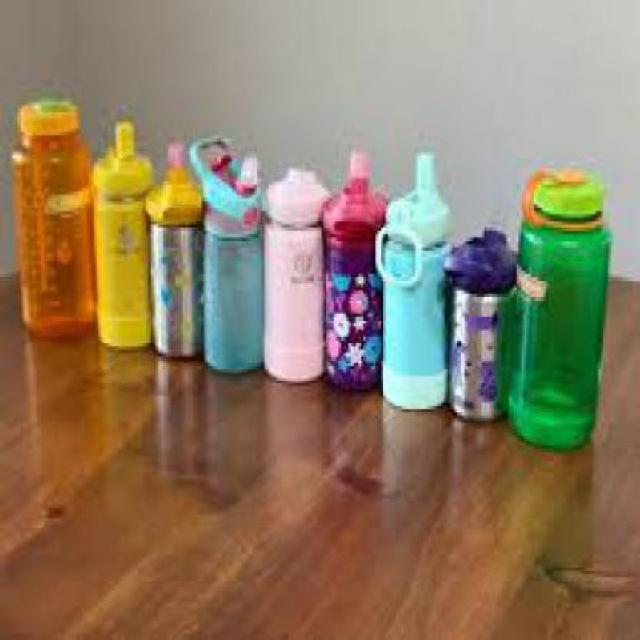Drinking: (499, 142, 603, 462), (9, 75, 106, 360)
